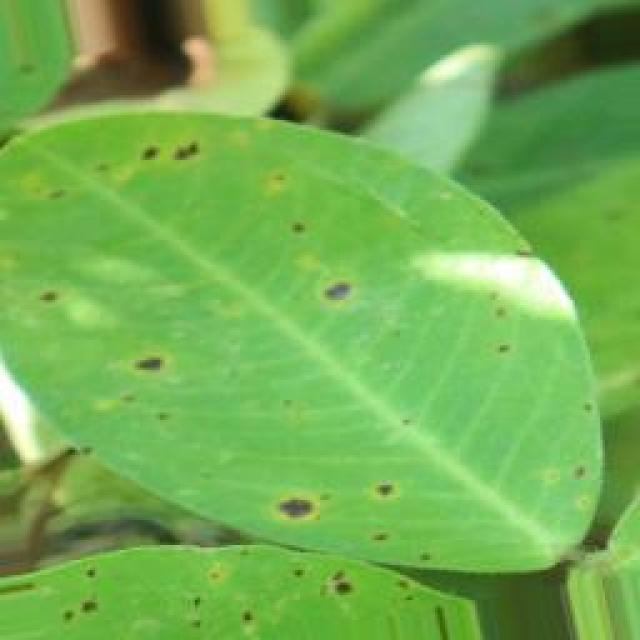Sigatoka: (254, 473, 445, 561), (276, 526, 453, 616), (89, 336, 204, 432), (147, 558, 272, 640), (27, 555, 125, 630), (120, 129, 211, 178), (296, 252, 361, 312), (230, 164, 314, 210), (473, 298, 525, 364), (18, 175, 92, 219), (534, 432, 596, 483), (10, 282, 90, 321), (563, 375, 610, 439), (277, 218, 323, 259)
